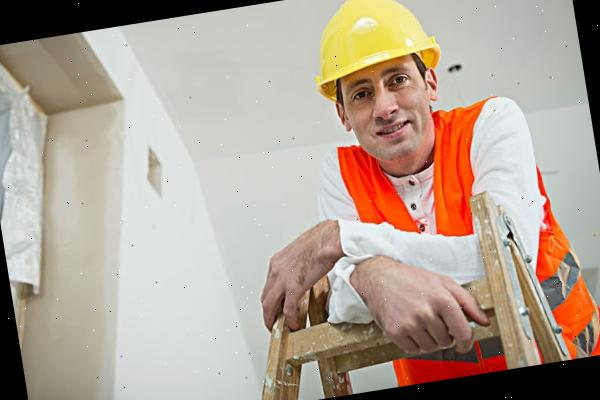helmet: (294, 0, 445, 88)
wear: (324, 134, 567, 393)
